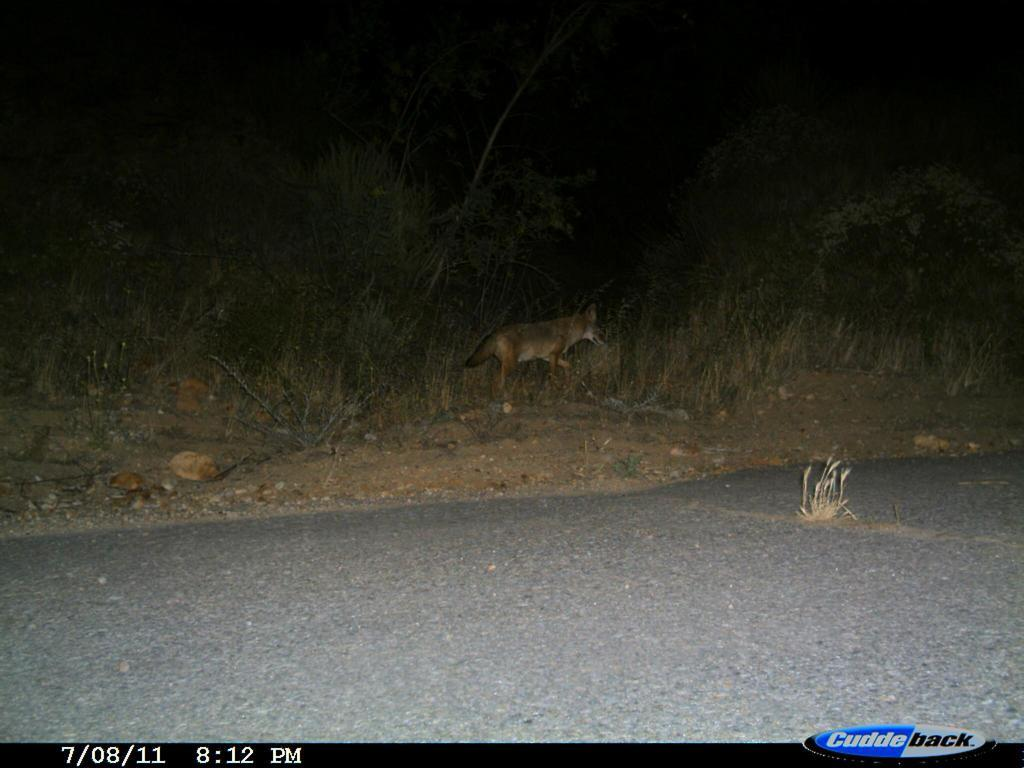coyote: (464, 299, 616, 406)
